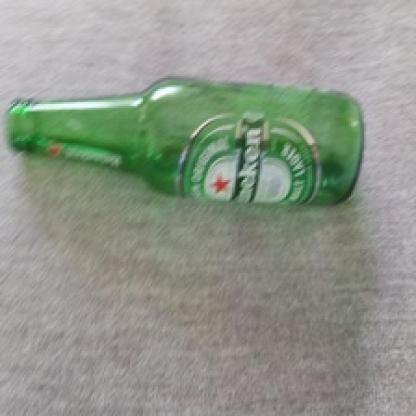Can: (6, 76, 366, 206)
